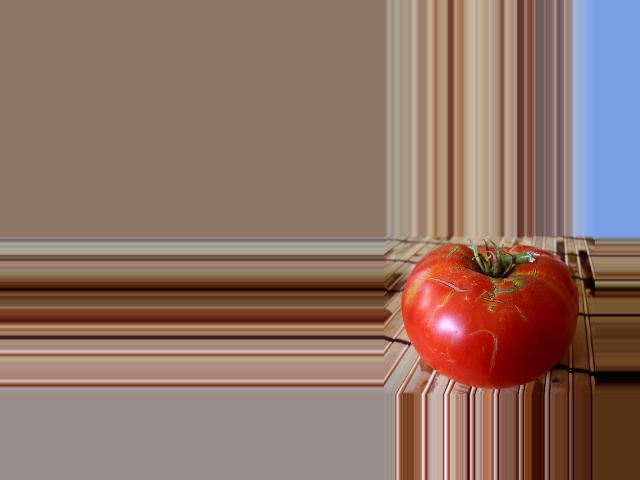tomato: (402, 244, 579, 386)
